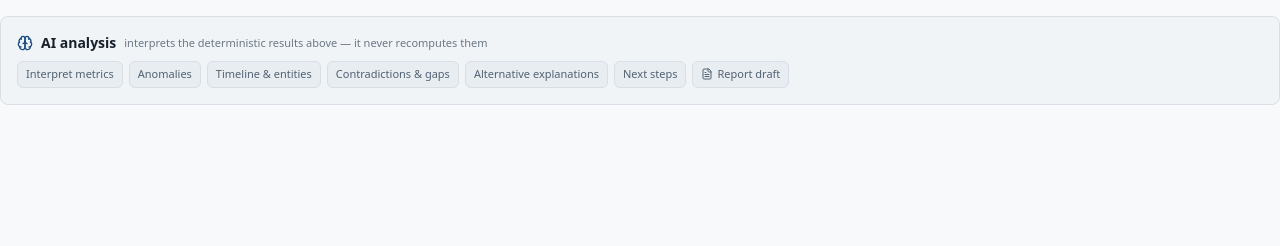
Scenario: AnalysisPanel › warns when the response carried no authorized sources
Step 1. Click the button with test id "analysis-action-interpret" → click(70, 74), box [17,61,123,88]
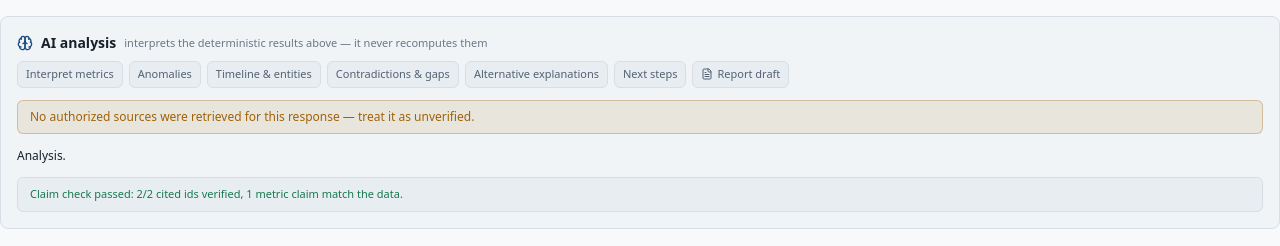
Expected: the message with test id "analysis-ungrounded" is shown, [17,100,1263,134]
Expected: the message with test id "analysis-ungrounded" shows "unverified", [30,108,474,124]
